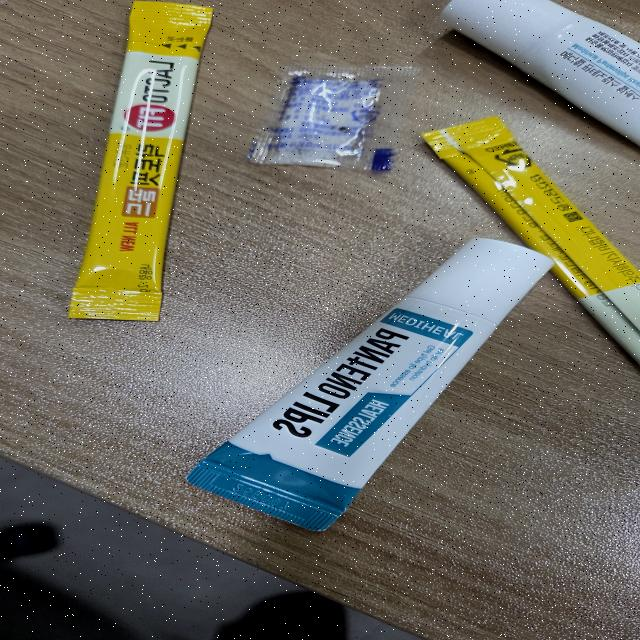lacto: (423, 116, 636, 377), (66, 0, 215, 323)
lib: (180, 238, 558, 532), (431, 1, 638, 147)
salt: (240, 60, 426, 174)
